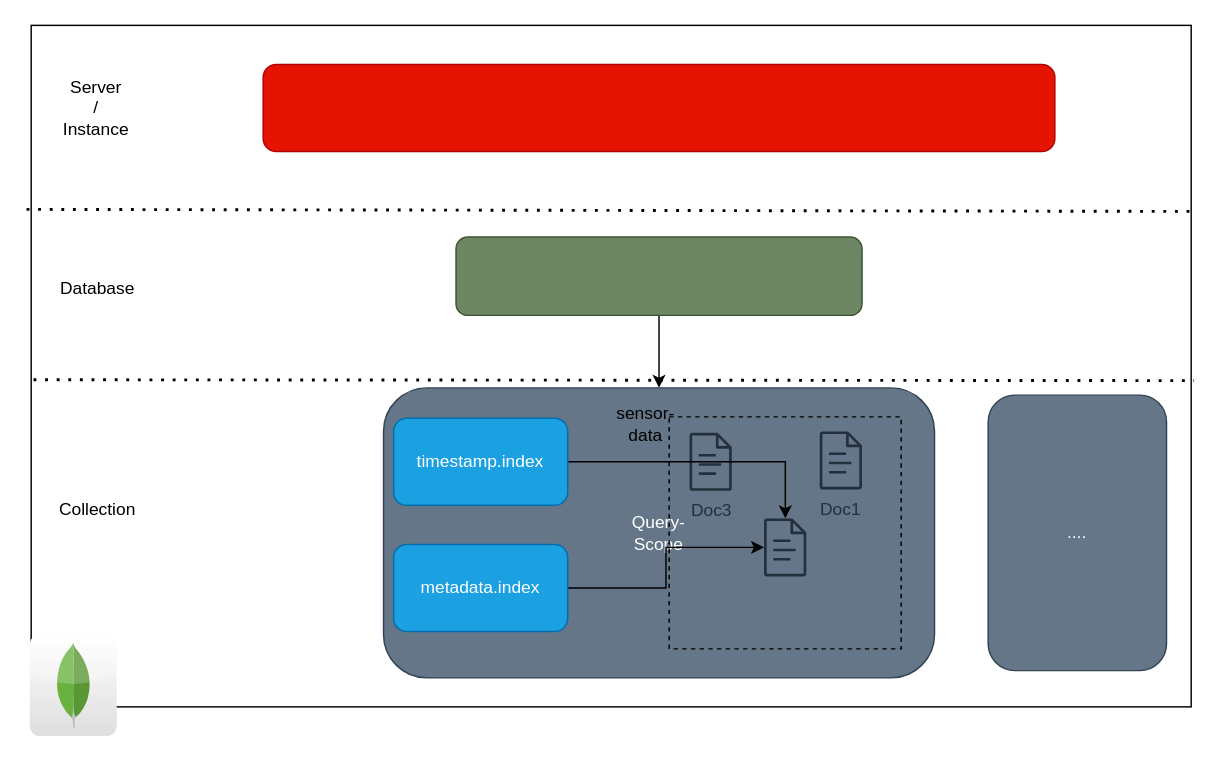
This 1222x761 diagram has some shape labels left out. Each missing label, with the centre of its shape:
"Doc2 timestamp-metadata-value" belongs at (x=784, y=547).
"mongod" belongs at (x=658, y=107).
"monitoring-system-app" belongs at (x=658, y=275).
